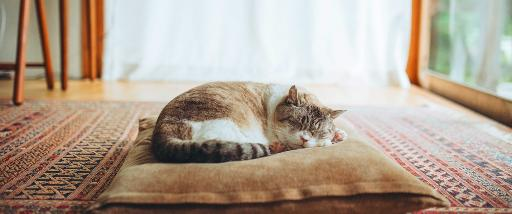cat_sleeping: (151, 82, 347, 163)
